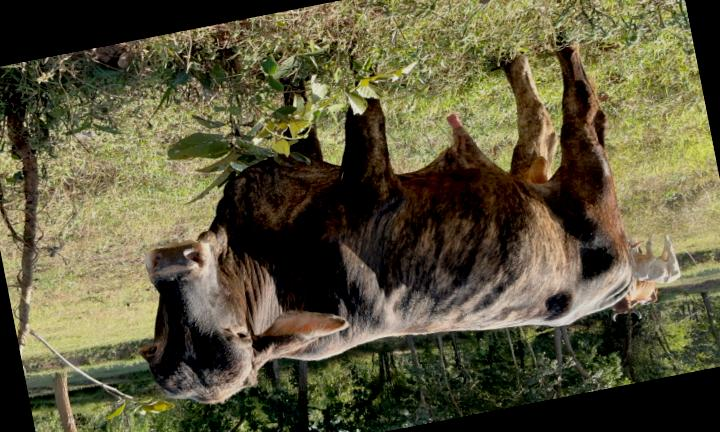Charolais: (141, 44, 631, 402)
